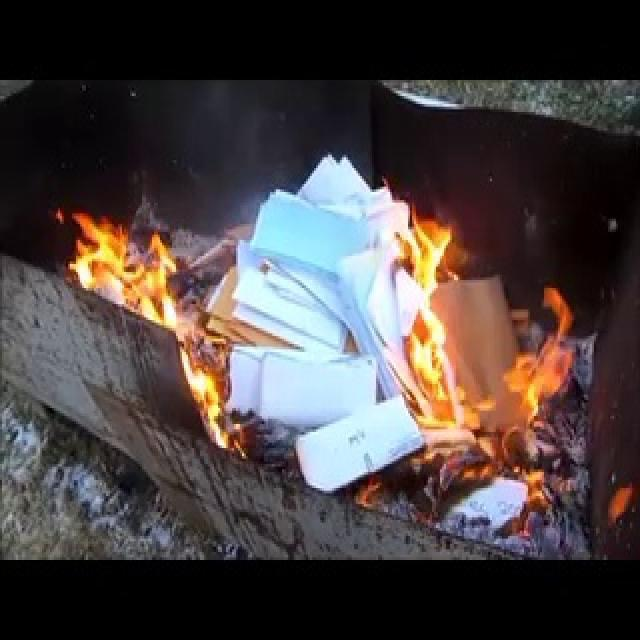Fire: (375, 162, 555, 464), (49, 130, 191, 330)
